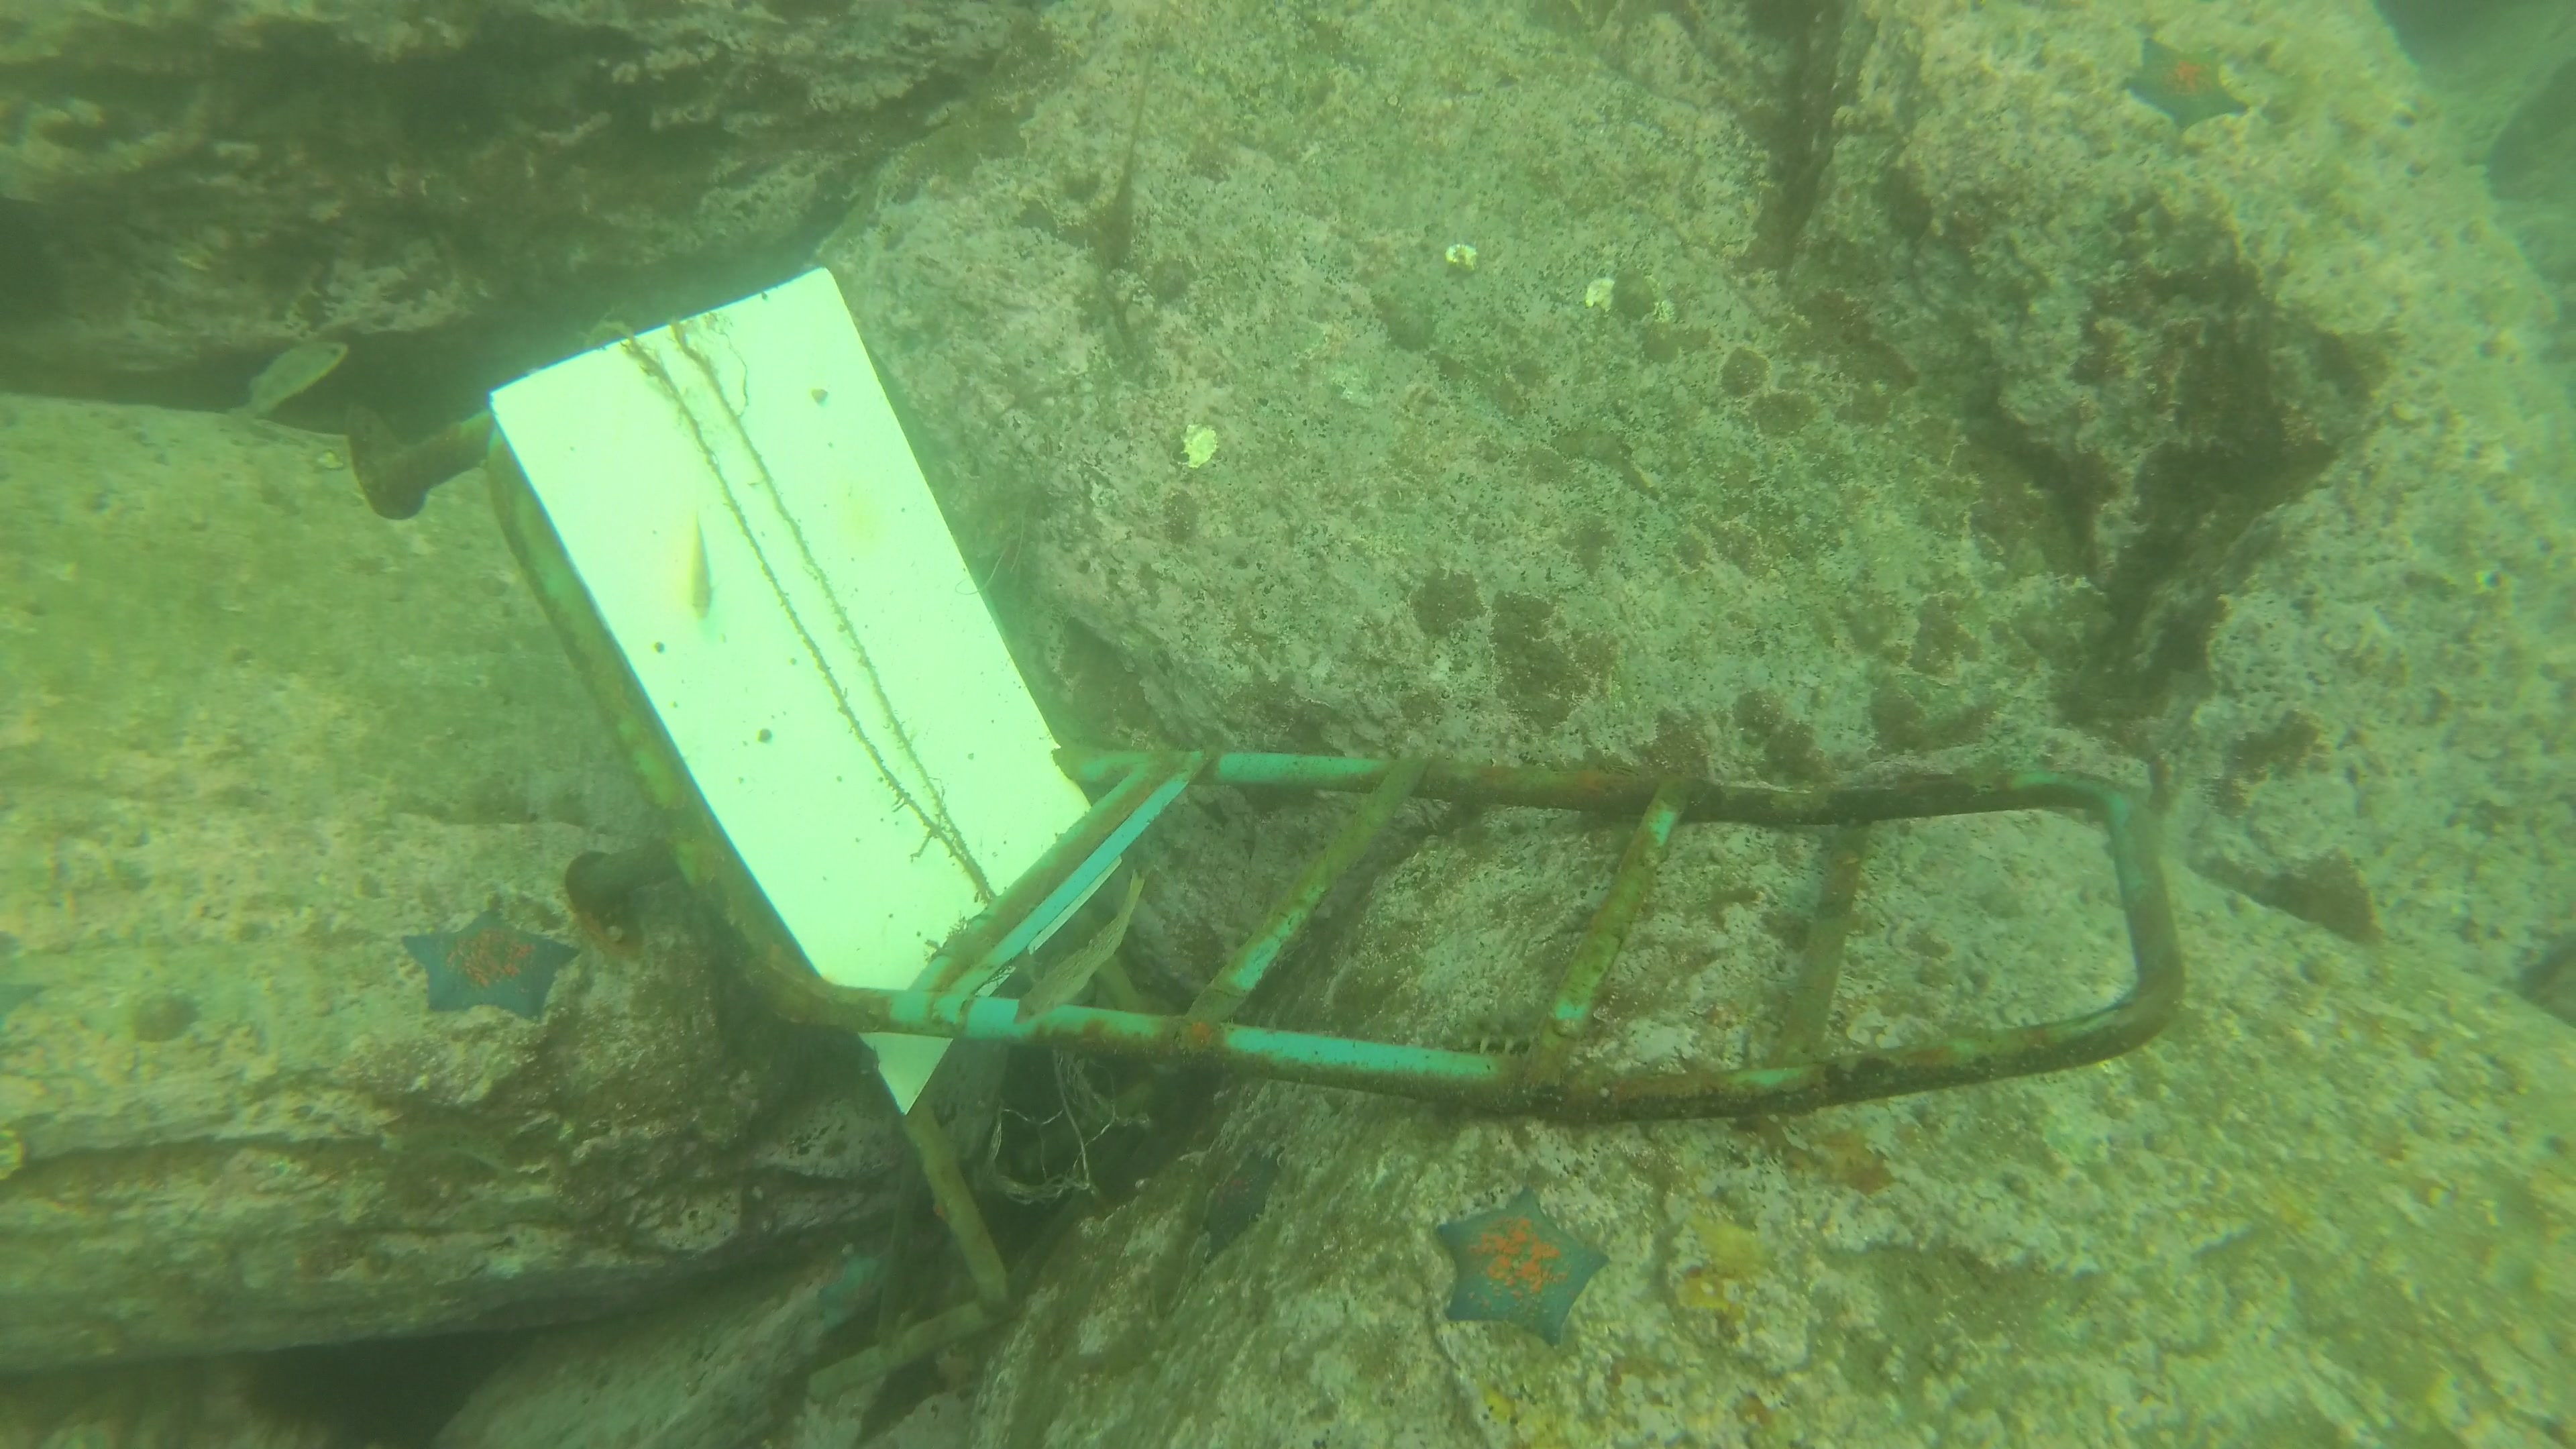starfish: (1430, 1185, 1615, 1343), (398, 904, 587, 1021), (2114, 30, 2252, 133), (1200, 1139, 1288, 1269), (814, 1246, 899, 1341)
